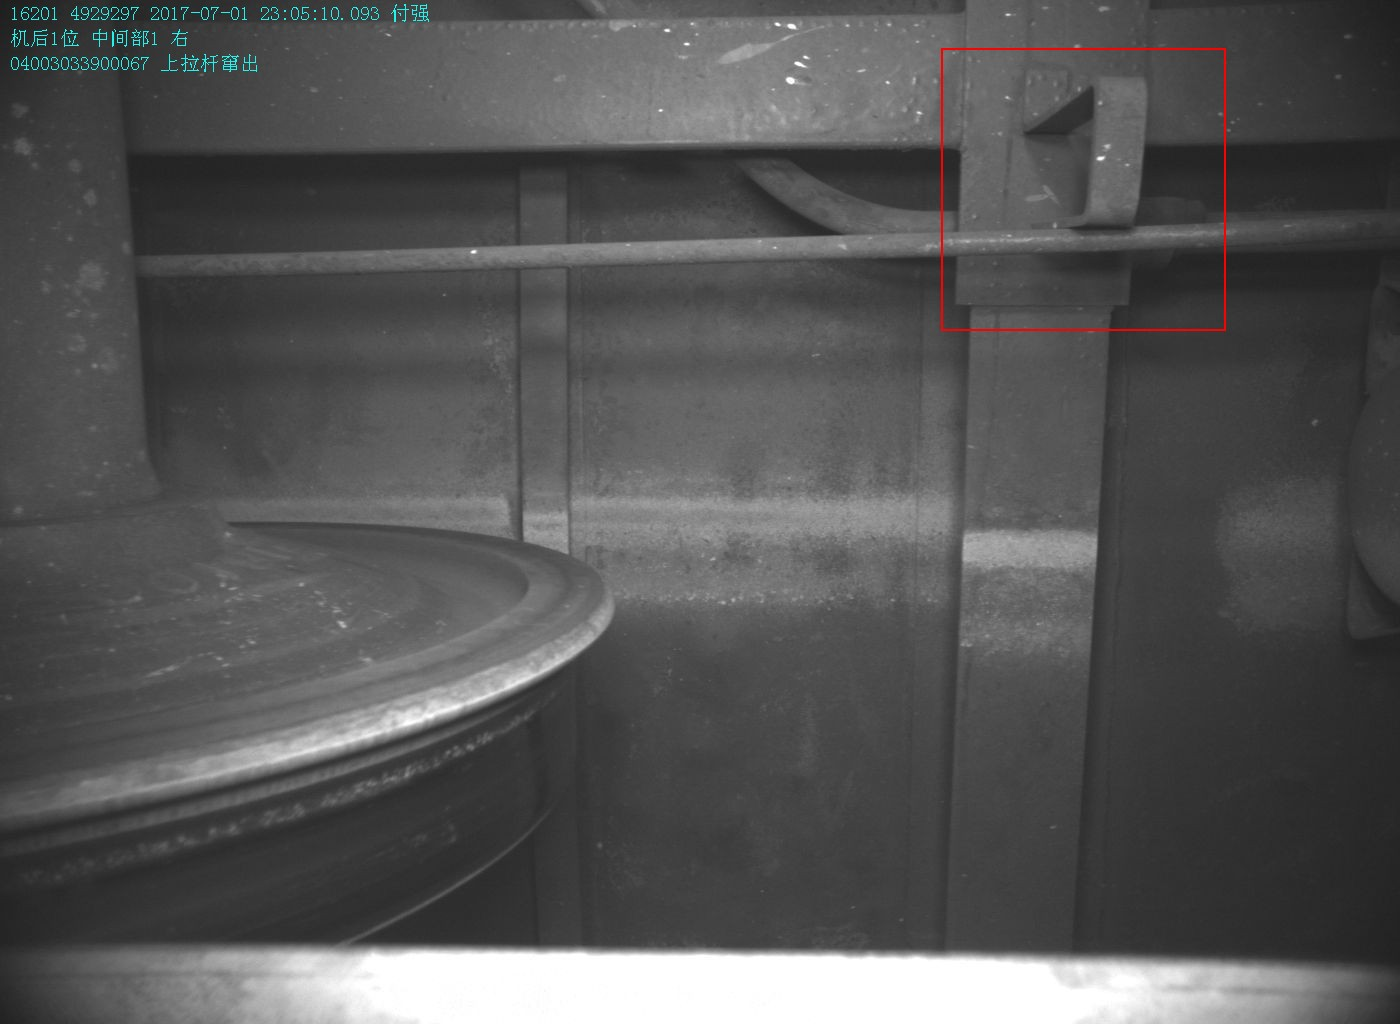upper lever: (1024, 66, 1149, 254)
